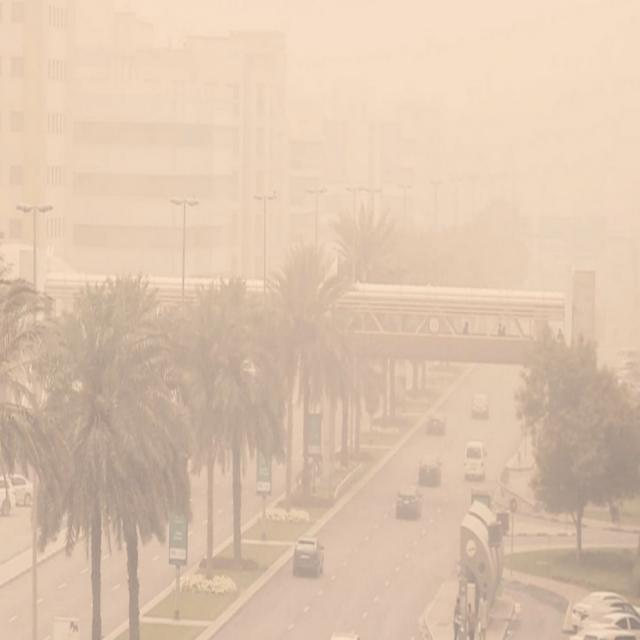car: (580, 601, 635, 631), (293, 536, 325, 577), (580, 595, 632, 617), (572, 587, 626, 607), (463, 441, 486, 482), (395, 488, 421, 520), (10, 470, 32, 507), (419, 452, 441, 484), (426, 410, 446, 434), (0, 469, 10, 514), (471, 393, 489, 418)
